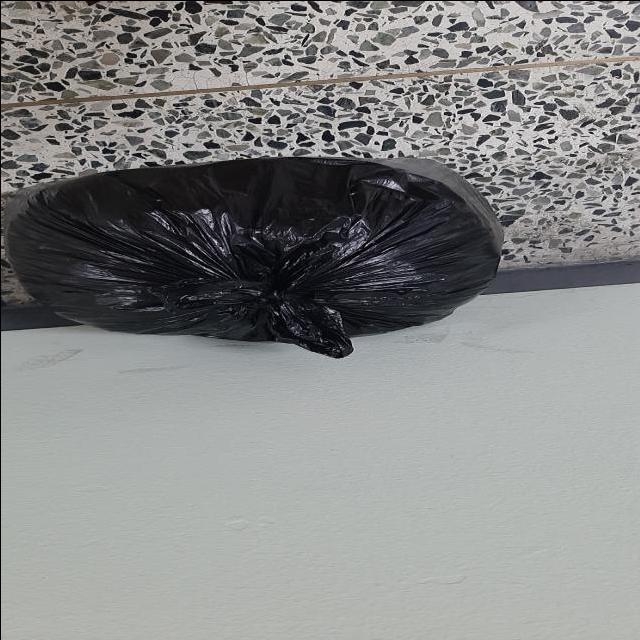black_bag: (0, 154, 504, 356)
